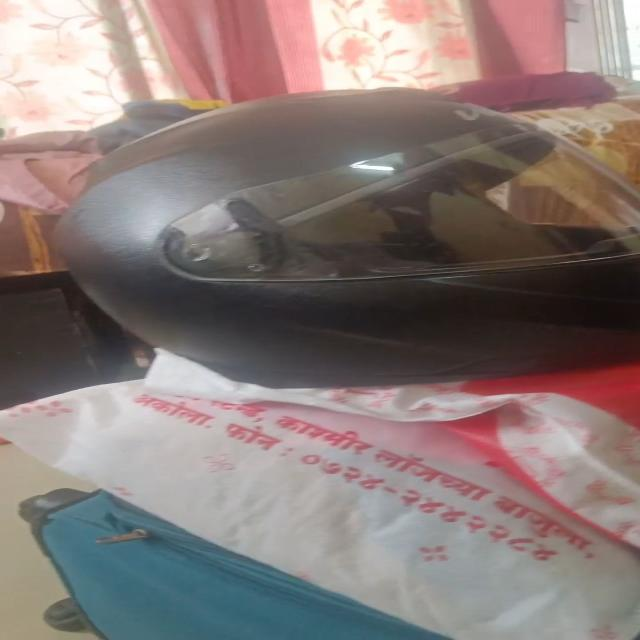Helmet: (44, 89, 639, 392)
